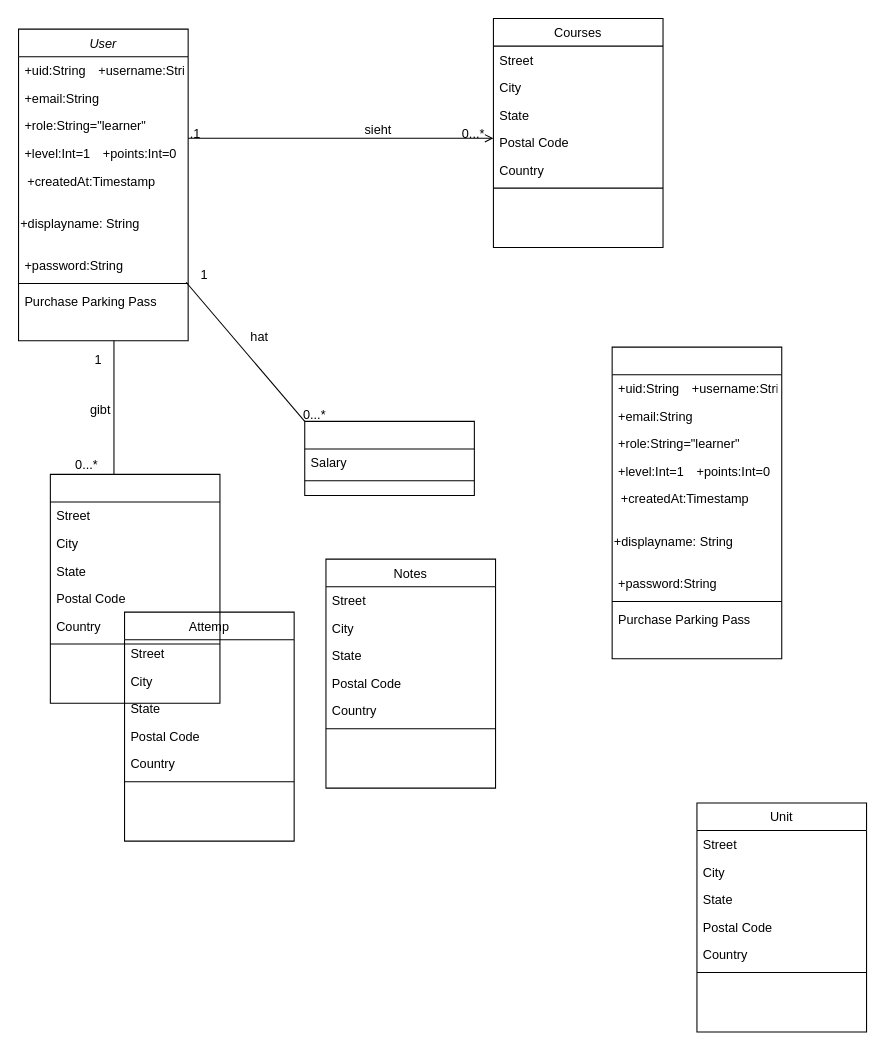
Some shapes in this 885 by 1054 pixel diagram are drawn without their labels. Here are the shapes that lost their labels. From the top down, the box of each, then its label:
(304, 420, 474, 496): Errors
(611, 346, 782, 659): Admin
(49, 473, 220, 703): Feedback
